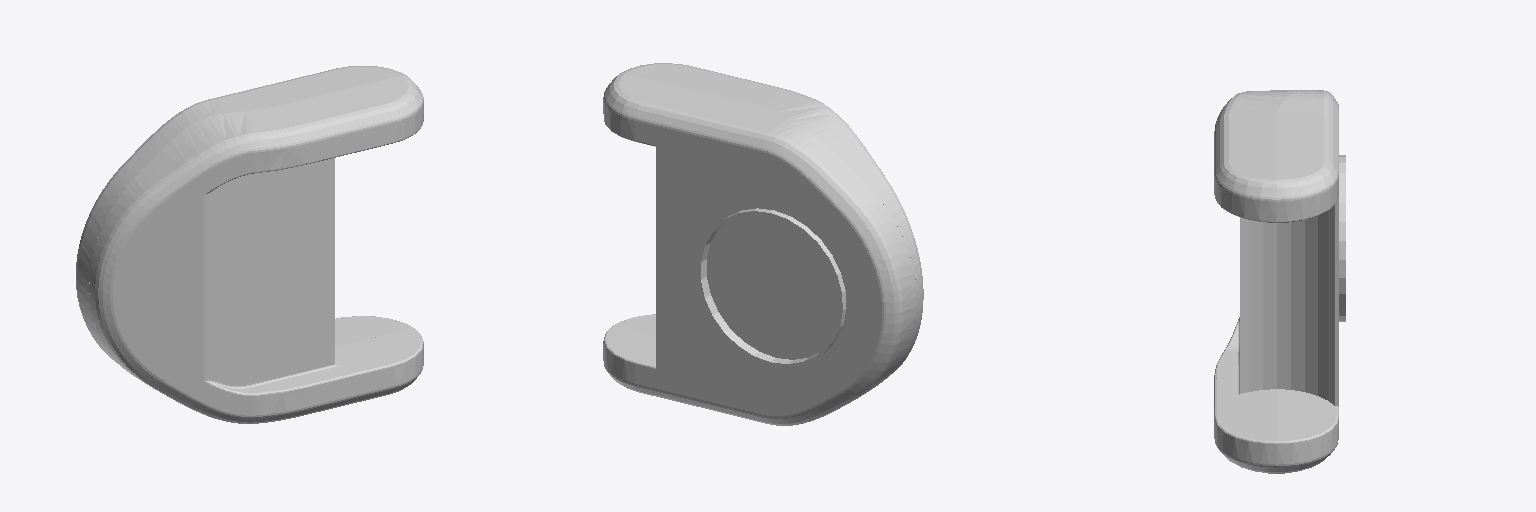
Rendered from head_pan_link.obj.
The picture shows the model from 3 angles: view 1: azimuth 30°, elevation 25°; view 2: azimuth 150°, elevation 25°; view 3: azimuth 270°, elevation 25°; orthographic projection.
Visible parts, largest first — view 1: obj1; view 2: obj1; view 3: obj1.
Boxes of the visible parts, x1=… form: obj1: x1=76, y1=66, x2=423, y2=423; obj1: x1=603, y1=63, x2=923, y2=425; obj1: x1=1214, y1=90, x2=1345, y2=473.
Size of the model in its own units: 0.3224 by 0.286 by 0.116.